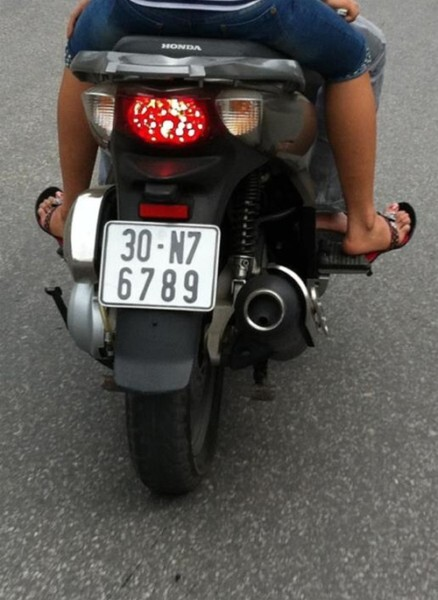number_plate: (101, 222, 222, 312)
